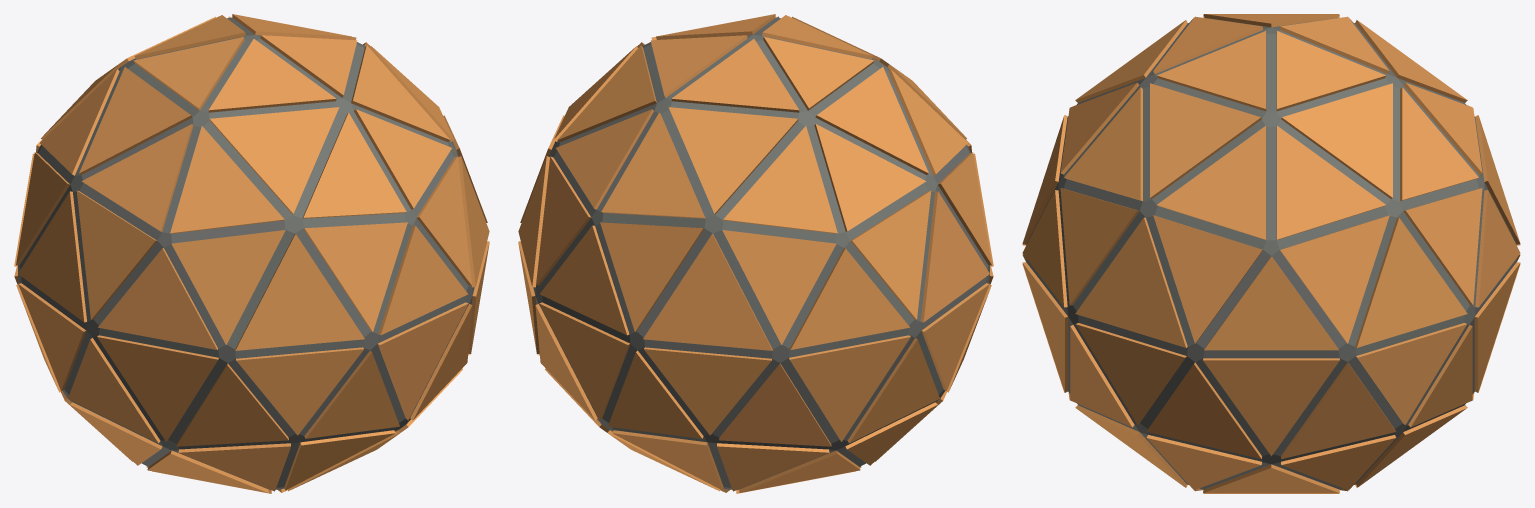
File: ball02.fbx
The picture shows the model from 3 angles, left to right: view 1: azimuth 30°, elevation 25°; view 2: azimuth 150°, elevation 25°; view 3: azimuth 270°, elevation 25°; orthographic projection. The views are drawn at different scales.
Visible parts, largest first — view 1: ball02; view 2: ball02; view 3: ball02.
Boxes of the visible parts, x1,y1,x2,y2 form: ball02: [14, 14, 489, 493]; ball02: [518, 14, 993, 493]; ball02: [1022, 14, 1520, 493].
Bounding box in the file's own units: 54.64 × 56.88 × 56.73.
